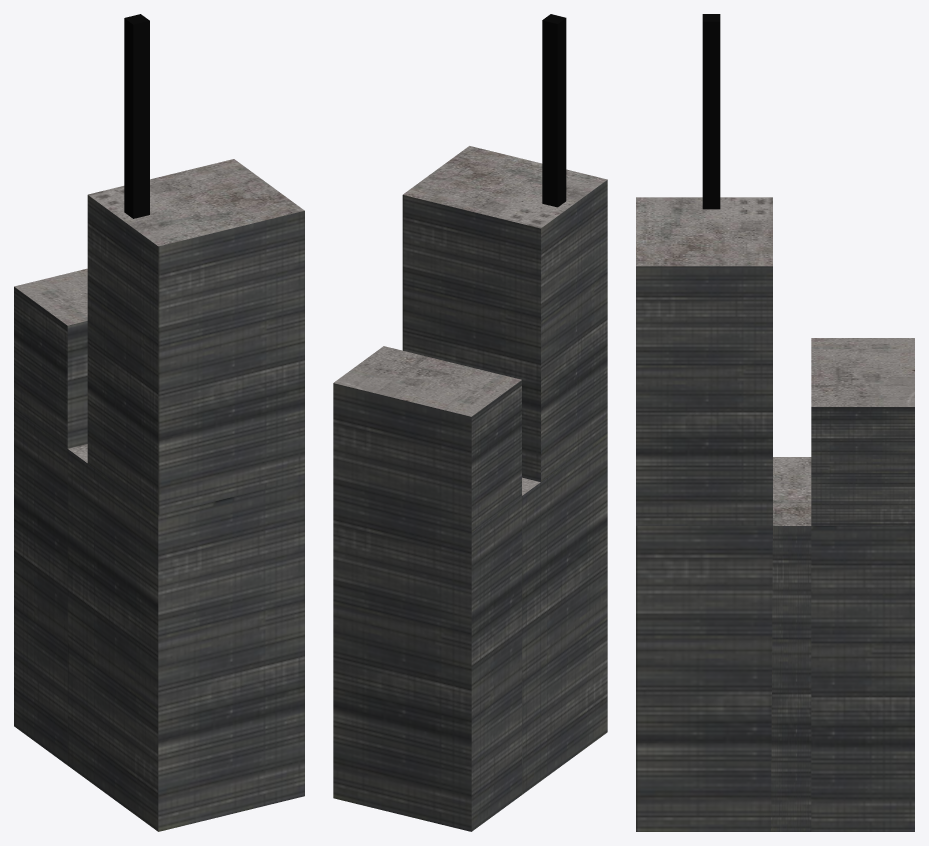
Rendered from skyscraper3.gltf.
3 views of the same model, side by side, from view 1: azimuth 30°, elevation 25°; view 2: azimuth 150°, elevation 25°; view 3: azimuth 270°, elevation 25° (orthographic). The views are drawn at different scales.
Parts seen in each view (by area): view 1: Cube; view 2: Cube; view 3: Cube.
Part boxes in pixels (<box>): Cube: <box>14,14,304,831</box>; Cube: <box>333,14,607,831</box>; Cube: <box>636,14,914,831</box>.
Size of the model in its own units: 71.14 by 362 by 121.
Materials: 1 (1 with a texture image).
